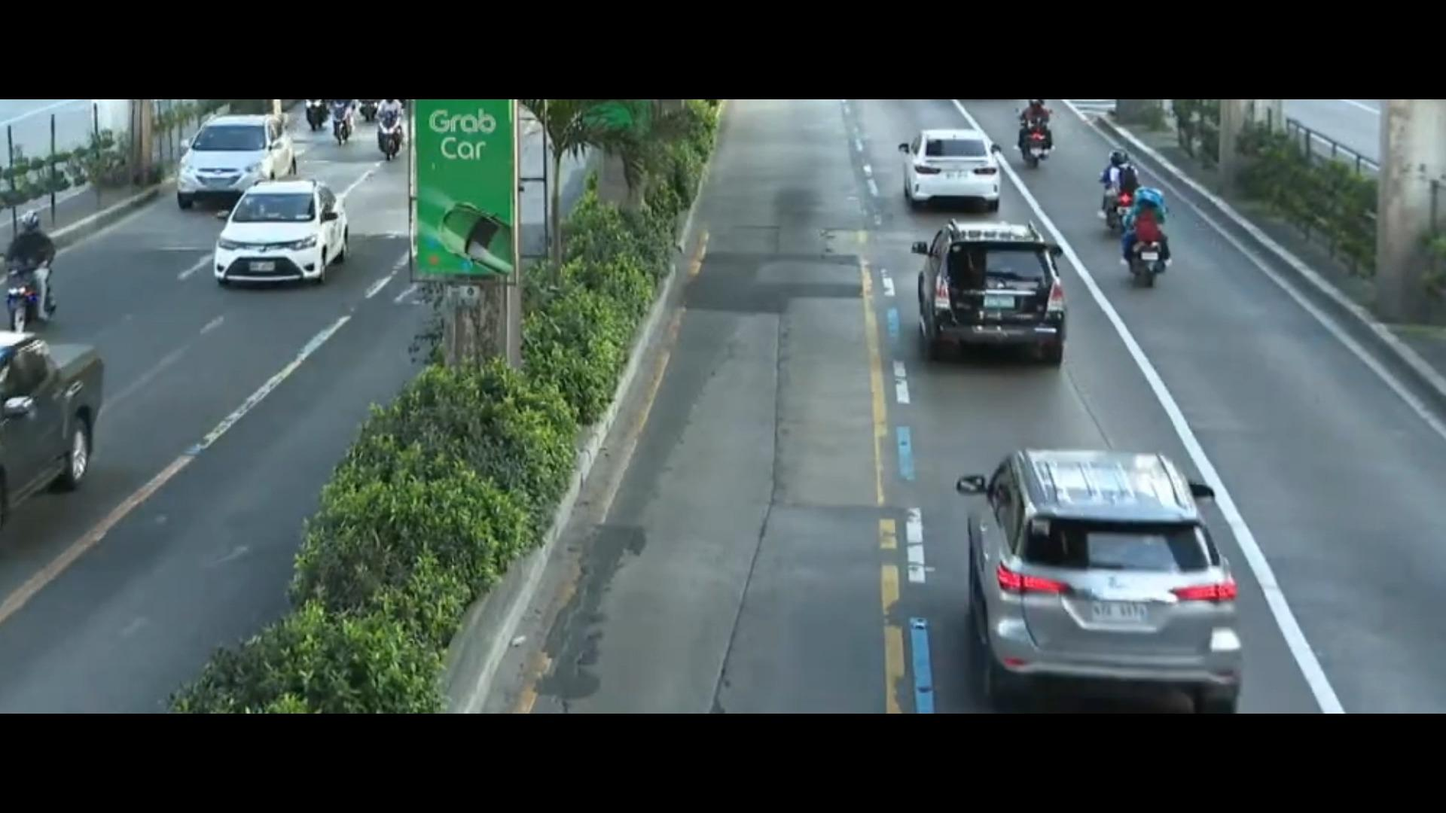Motorcycle: (0, 209, 78, 337), (1093, 134, 1162, 239), (1111, 187, 1178, 286), (1019, 94, 1066, 179), (375, 89, 419, 165)
SUV: (921, 413, 1263, 706), (917, 217, 1068, 367), (169, 98, 285, 215)
Sedan: (0, 305, 134, 514), (197, 160, 373, 298), (880, 119, 1018, 206)
